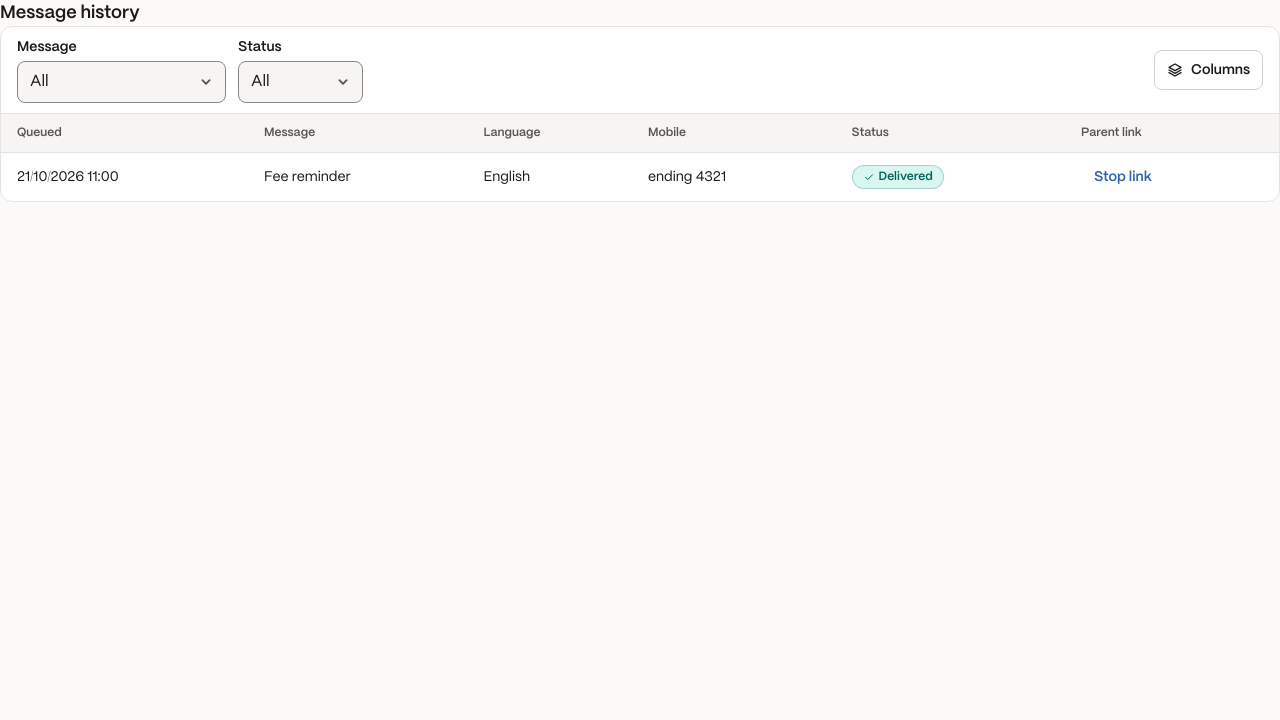
Stop link on a sent message (ADR-0046 decision 5) › confirms with the consequence line and posts to revoke-link
The width and height of the screenshot is (1280, 720).
Step 1. Click the button with aria-label "Stop the link of the Fee reminder" → (1123, 177), box [1081,161,1165,193]
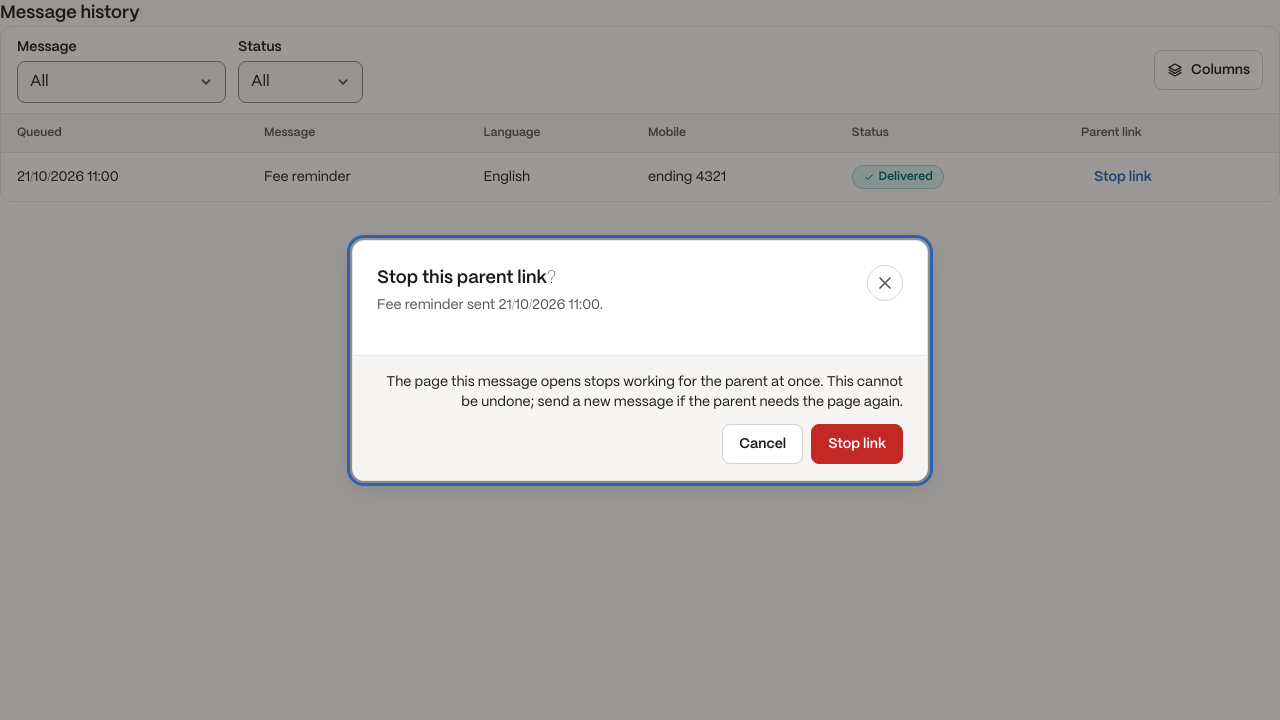
Step 2. Click the button "Stop link" → (857, 444), box [811,424,903,464]
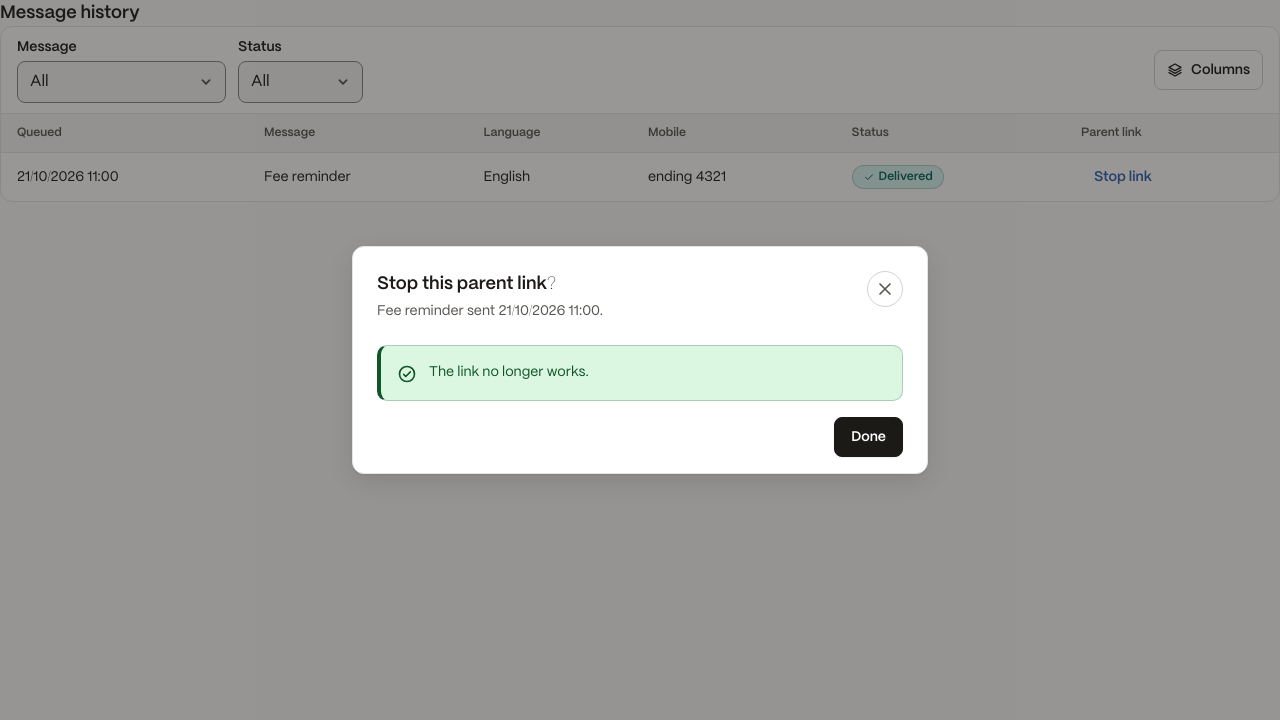
Check: the text "The link no longer works." is shown, box [429,365,589,379]
